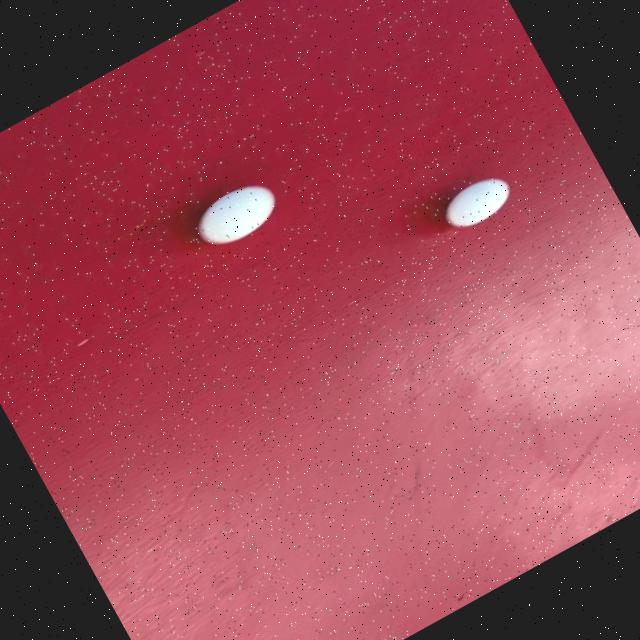ping-pong-ball: (184, 170, 285, 258), (432, 162, 524, 239)
